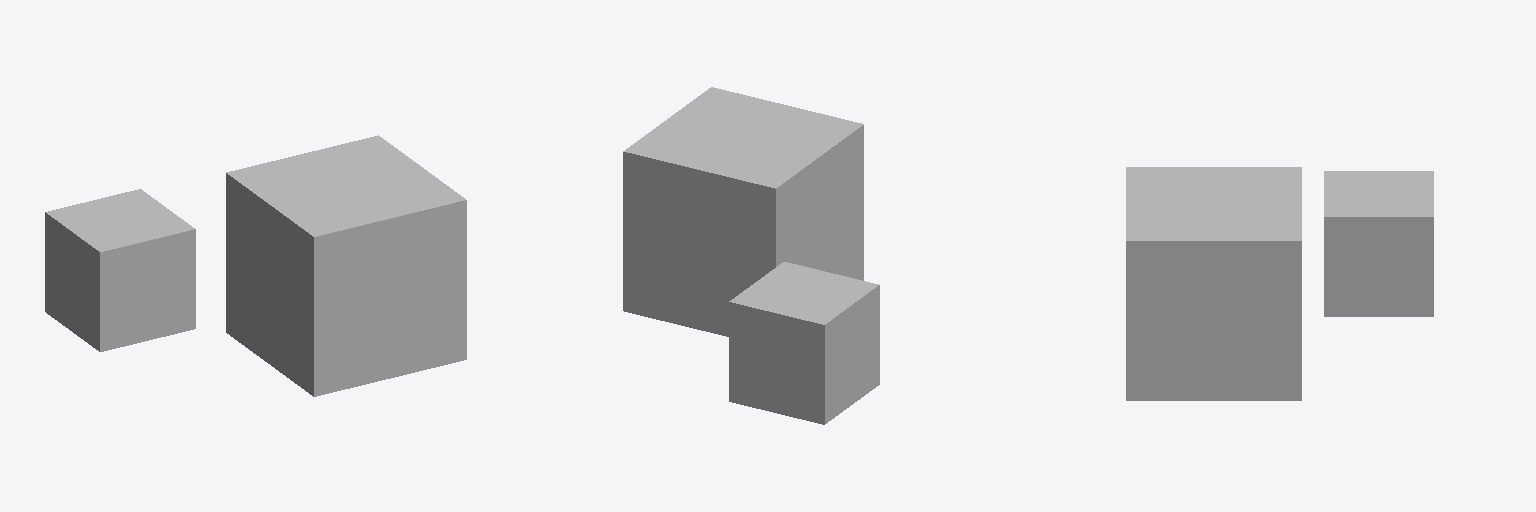
Rendered from thelimit_lucinus_1.obj.
3 views of the same model, side by side, from view 1: azimuth 30°, elevation 25°; view 2: azimuth 150°, elevation 25°; view 3: azimuth 270°, elevation 25° (orthographic).
Parts seen in each view (by area): view 1: cube; view 2: cube; view 3: cube.
Part boxes in pixels (x1,y1,x2,y2): cube: (45,135,466,396); cube: (623,87,879,424); cube: (1126,167,1433,400).
Size of the model in its own units: 0.875 by 0.5 by 0.875.